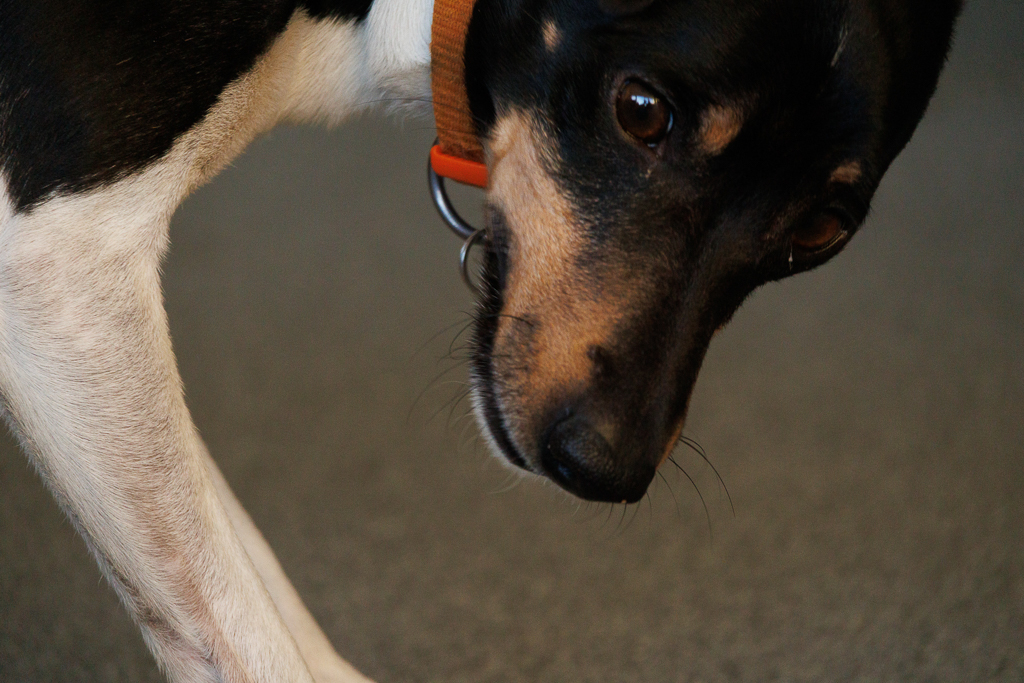Dog: (0, 0, 978, 683)
